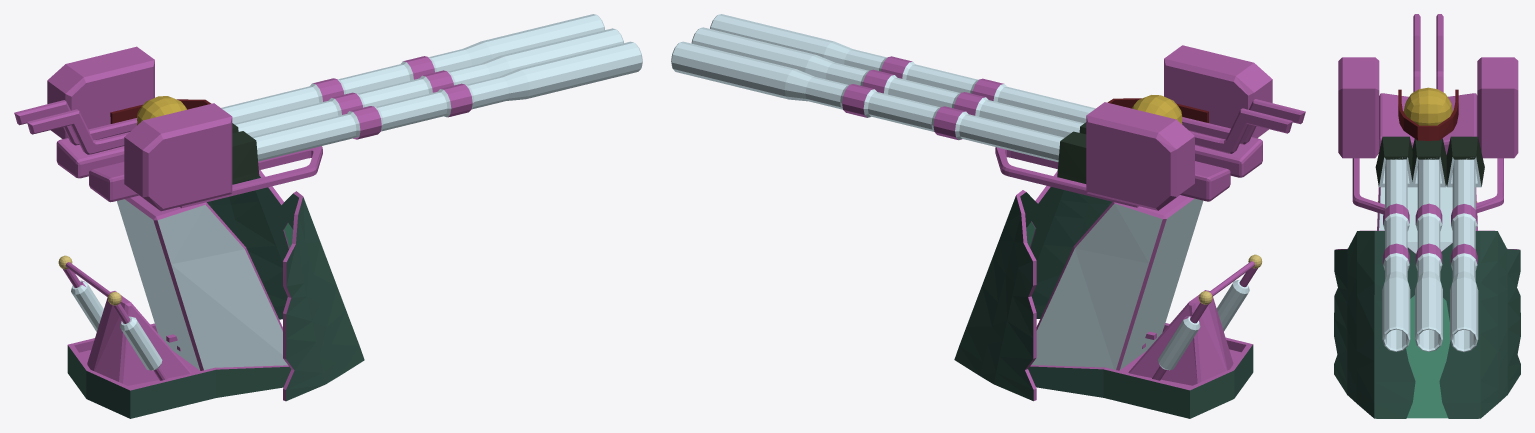
The model's file is Turret-Type1-3.fbx.
The picture shows the model from 3 angles, left to right: view 1: azimuth 30°, elevation 25°; view 2: azimuth 150°, elevation 25°; view 3: azimuth 270°, elevation 25°; orthographic projection. The views are drawn at different scales.
Visible parts, largest first — view 1: auto_turret:attack, auto_turret6:base; view 2: auto_turret:attack, auto_turret6:base; view 3: auto_turret:attack, auto_turret6:base.
Boxes of the visible parts, bbox=[...] form: auto_turret:attack: bbox=[14, 14, 642, 211]; auto_turret6:base: bbox=[58, 170, 364, 418]; auto_turret:attack: bbox=[671, 14, 1305, 210]; auto_turret6:base: bbox=[954, 171, 1262, 418]; auto_turret:attack: bbox=[1338, 14, 1518, 352]; auto_turret6:base: bbox=[1334, 185, 1520, 418].
Size of the model in its own units: 115 by 54.5 by 34.5.
